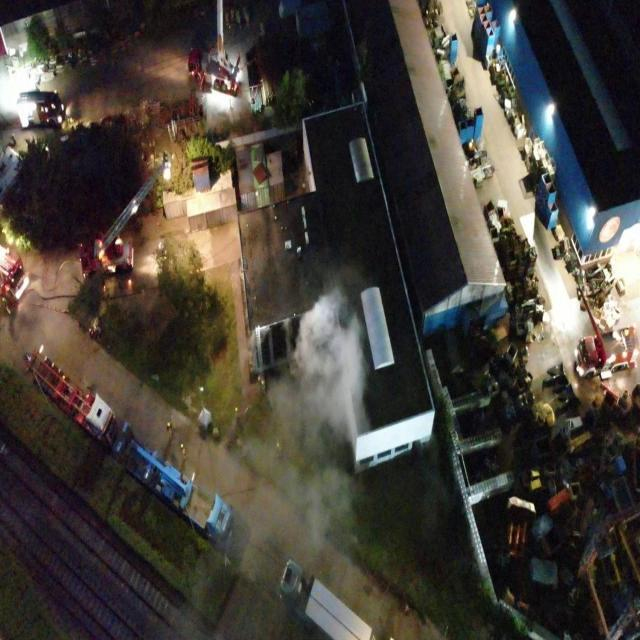Smoke: (218, 287, 368, 582), (286, 166, 312, 199)
